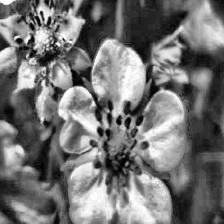Blossom Blight: (85, 99, 151, 190), (12, 0, 76, 84)
